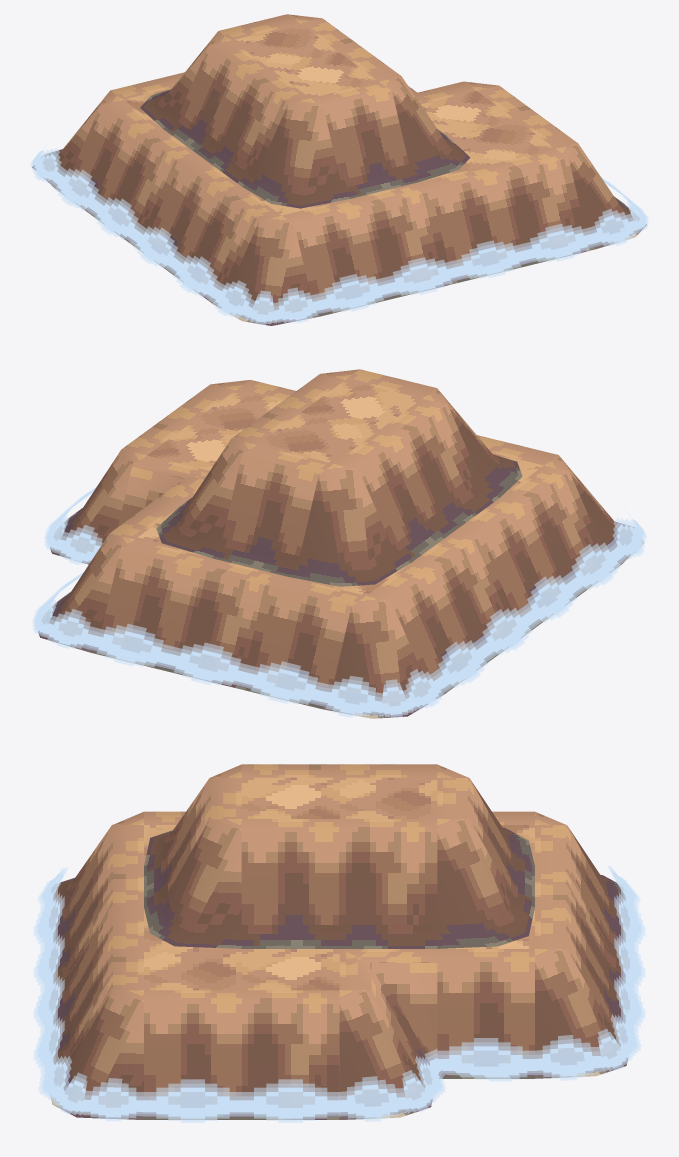
Rendered from hgss-rocher-johto-crete-haute.glb.
The picture shows the model from 3 angles, top to bottom: view 1: azimuth 30°, elevation 25°; view 2: azimuth 150°, elevation 25°; view 3: azimuth 270°, elevation 25°; orthographic projection. The views are drawn at different scales.
Size of the model in its own units: 6.66 by 2.1 by 6.66.
Materials: 4 (4 with a texture image).
